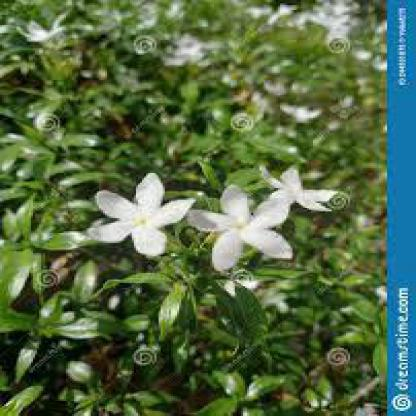Melati: (195, 161, 324, 274), (78, 168, 187, 268)
